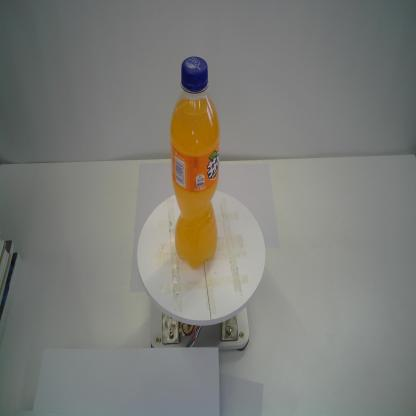Drink: (168, 54, 222, 272)
